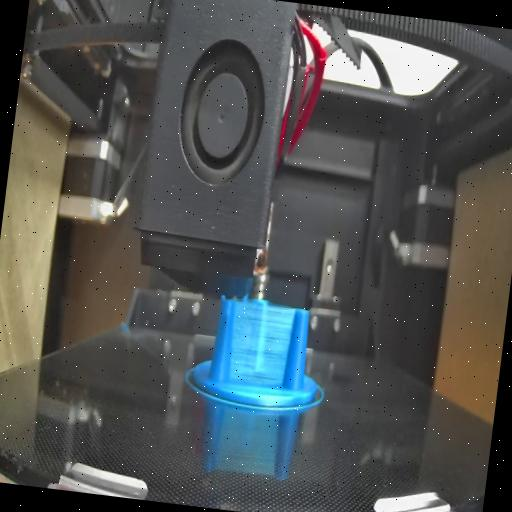stringing: (228, 302, 296, 391)
